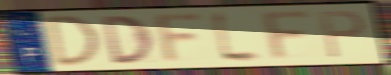D: (46, 14, 103, 69), (99, 14, 156, 66)
F: (260, 8, 315, 63), (152, 11, 207, 66)
L: (209, 9, 268, 65)
P: (318, 9, 368, 61)
